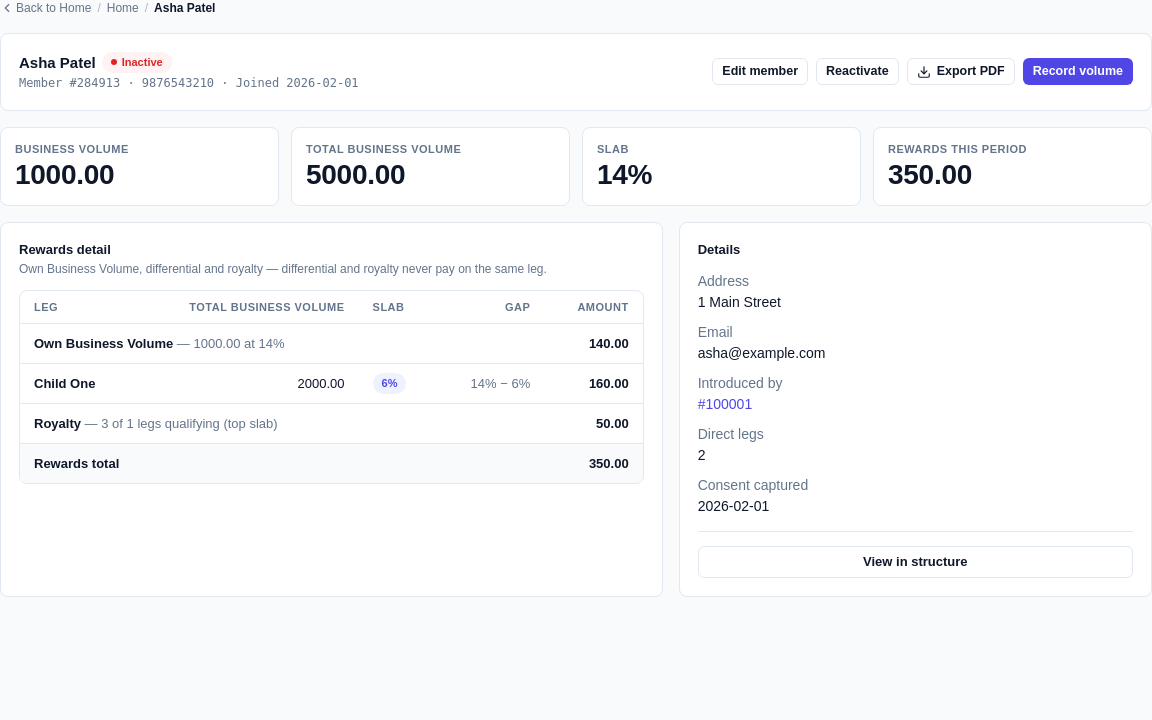
Test: MemberDetail — deactivate / reactivate › reactivates an inactive member
Check: the button "Edit member" is shown, box [712,58,808,85]
Check: the text "Inactive" is shown, box [102,52,172,73]
Click the button "Reactivate" at point(857, 72), box [816,58,899,85]
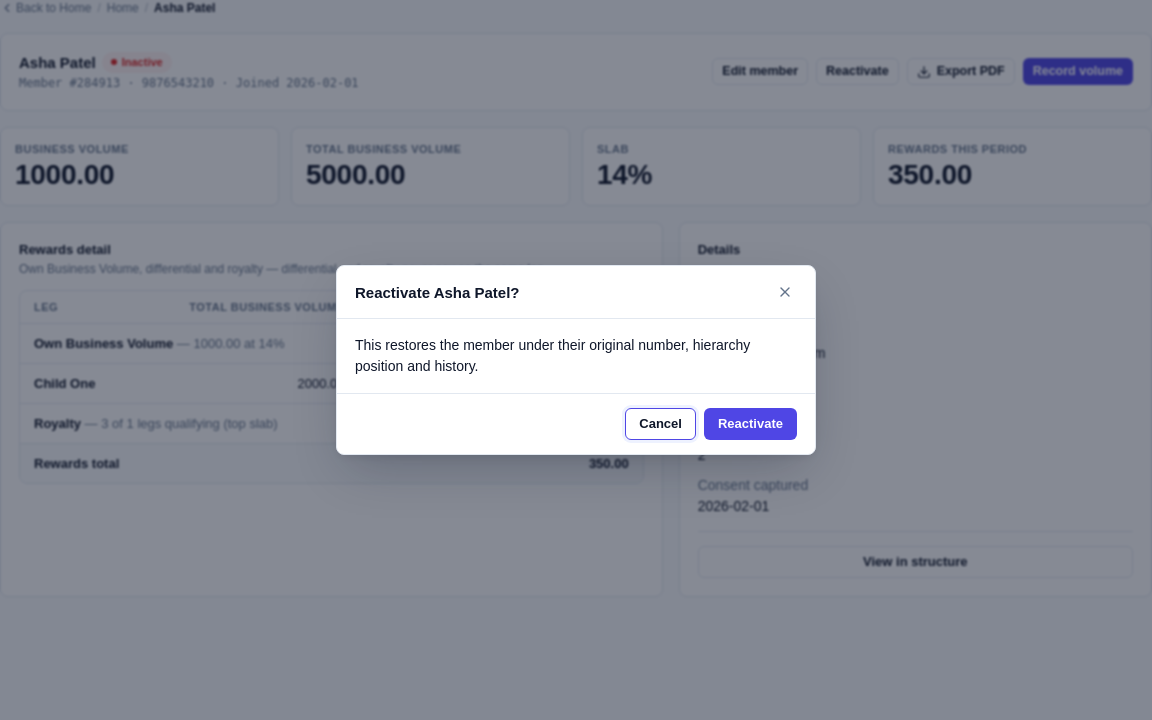
Click the button "Reactivate" at point(750, 424), box [704,408,797,440]
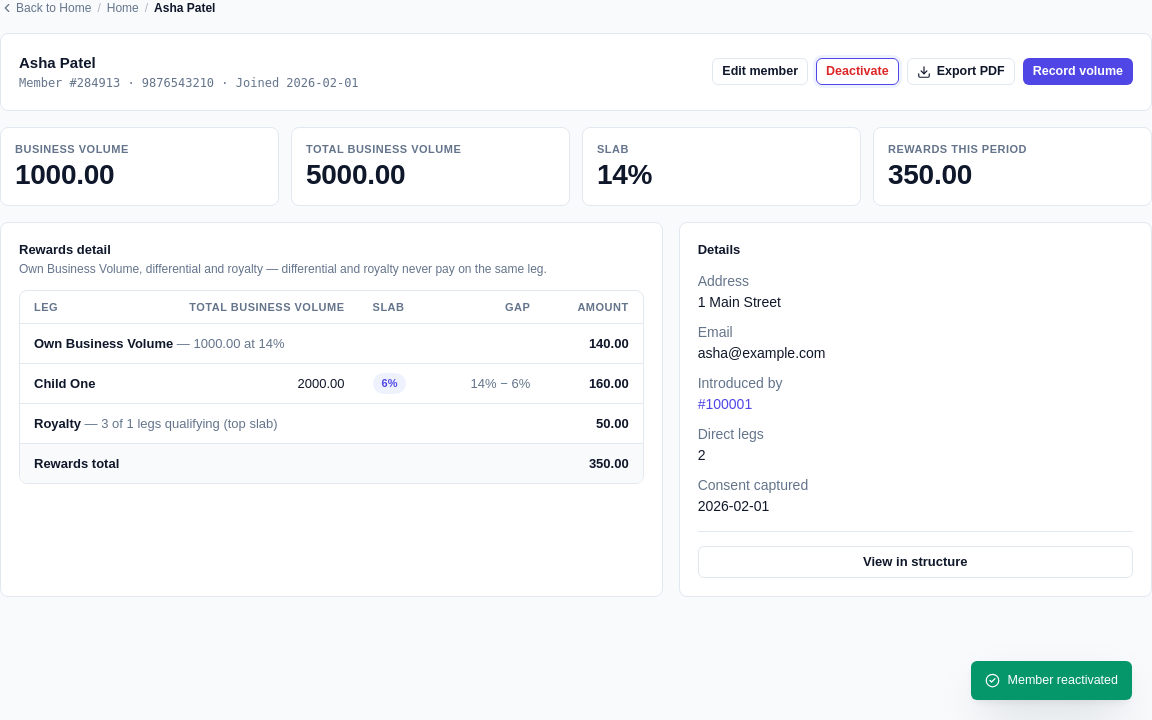
Check: the text "Inactive" is gone
